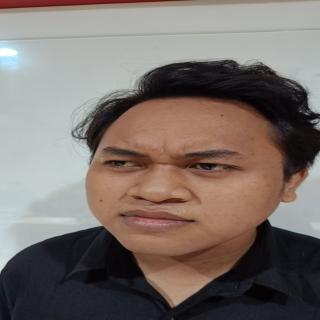Marah: (91, 93, 279, 268)
